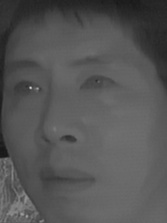eye: (78, 73, 120, 94), (9, 76, 45, 100)
mouth: (36, 159, 98, 198)
